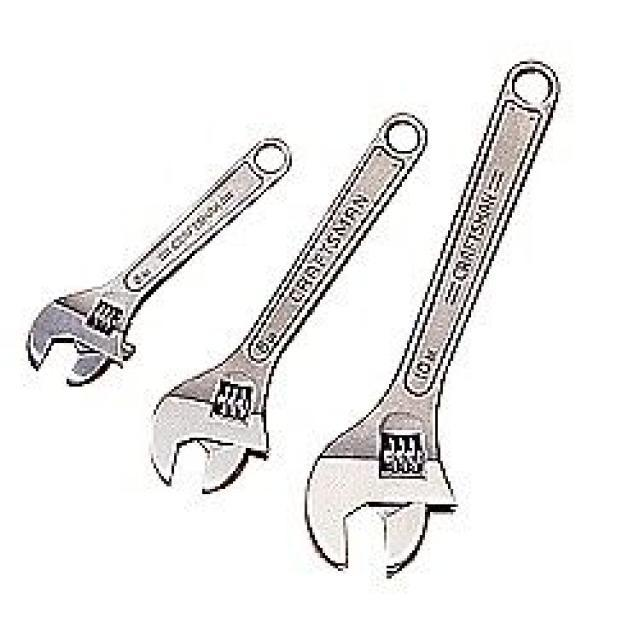wrench: (295, 44, 569, 584), (140, 103, 436, 501), (22, 130, 296, 394)
